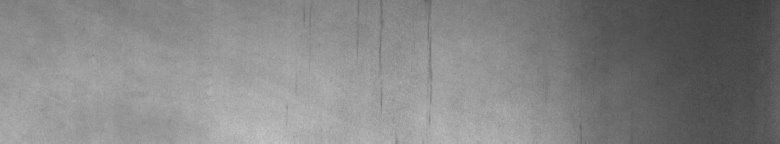ka: (376, 4, 432, 104)
